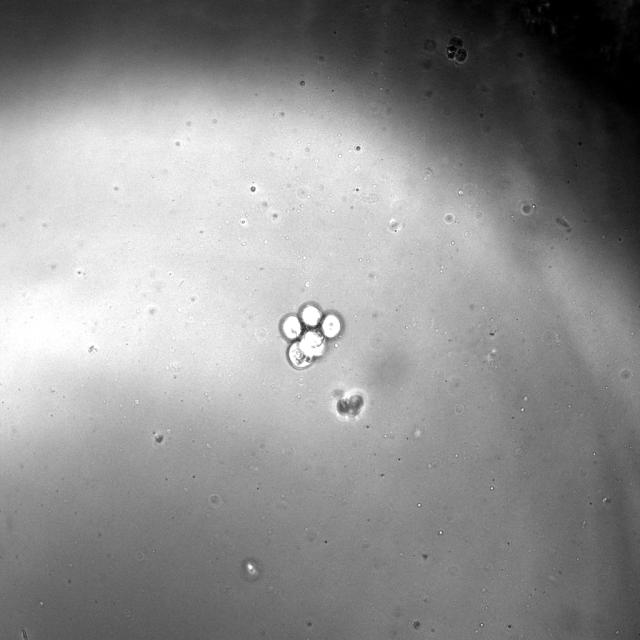organoid: (279, 302, 342, 370), (331, 388, 365, 421), (446, 36, 467, 63)
